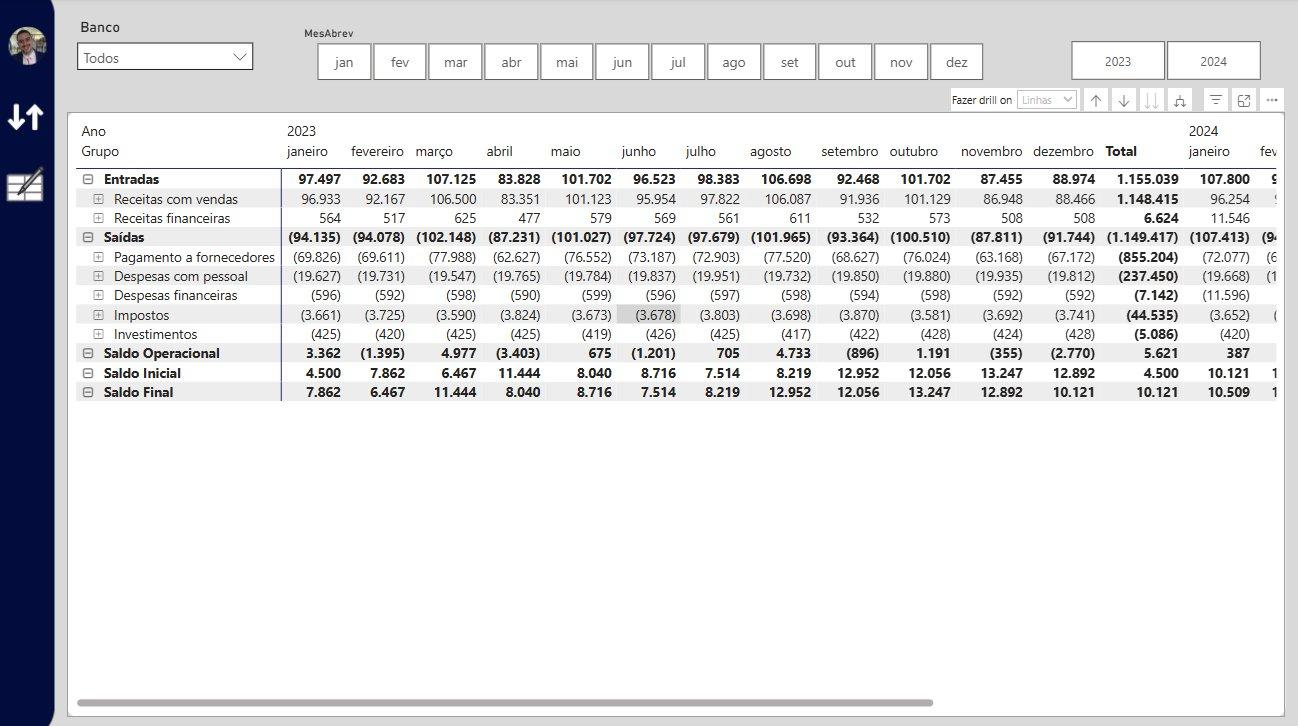

What the dashboard file says about the page in this screenshot:
{"tool":"powerbi","page":{"name":"Matriz","canvas":[1280,720],"ordinal":1},"visuals":[{"type":"pivotTable","fields":{"Values":["Medidas.Fluxo"],"Rows":["dGrupos.Grupo","dContas.Subgrupo","dContas.Conta"],"Columns":["dCalendario.Ano","dCalendario.Mes","dCalendario.Dia"]},"box":[104.1,112,1160.2,575.7],"z":0},{"type":"slicer","fields":{"Values":["dBancos.Banco"]},"box":[95.3,7.9,192.5,79.6],"z":1000},{"type":"slicer","fields":{"Values":["dCalendario.MesAbrev"]},"box":[288,16,704,64],"z":2000},{"type":"slicer","fields":{"Values":["dCalendario.Ano"]},"box":[992,16,272,64],"z":3000},{"type":"actionButton","box":[0,112,86.4,72.7],"z":4000}]}

Visuals, with their boxes on the page's 1280x720 design canvas (x1, y1, x2, y2). These are canvas units, not pixel positions in the 1298x726 screenshot, which may show the page scaled, cropped or inside an application window:
pivotTable - Medidas.Fluxo x dGrupos.Grupo: crop(104, 112, 1264, 688)
slicer - dBancos.Banco: crop(95, 8, 288, 88)
slicer - dCalendario.MesAbrev: crop(288, 16, 992, 80)
slicer - dCalendario.Ano: crop(992, 16, 1264, 80)
actionButton: crop(0, 112, 86, 185)
